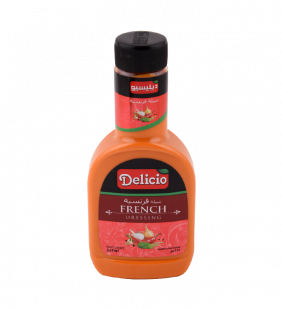DELICIO: (87, 30, 197, 280)
